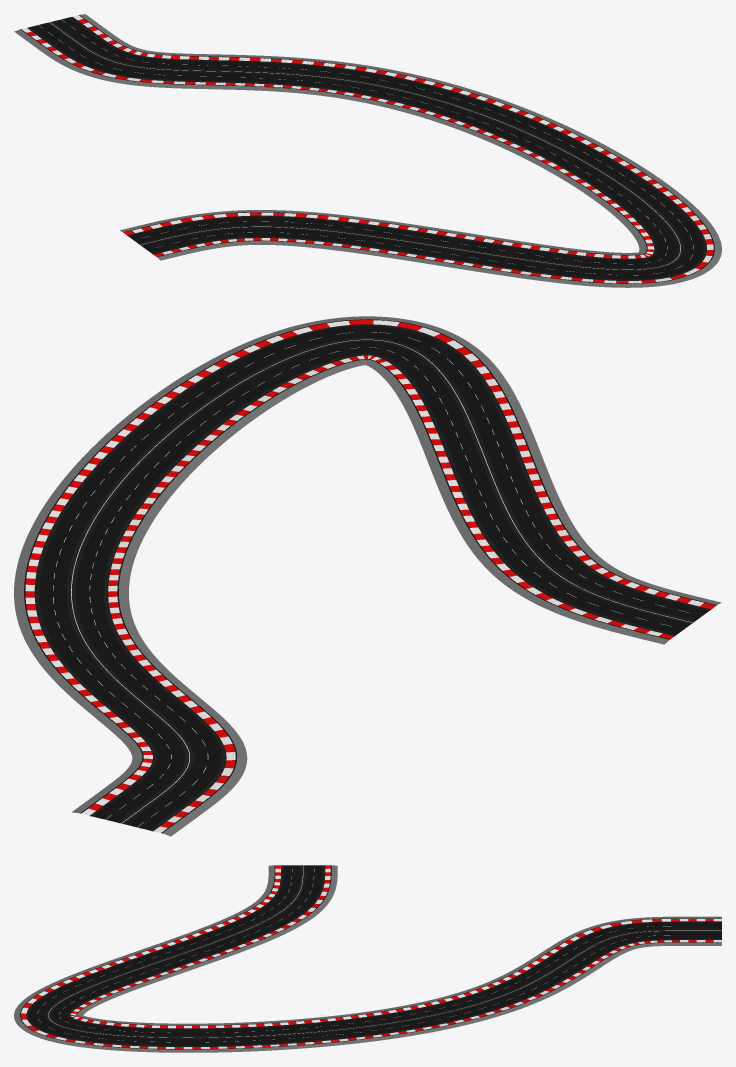
File: S0.1l3h0-ass3.glb
3 views of the same model, one above another, from view 1: azimuth 30°, elevation 25°; view 2: azimuth 150°, elevation 25°; view 3: azimuth 270°, elevation 25° (orthographic). The views are drawn at different scales.
Visible parts, largest first — view 1: Grid; view 2: Grid; view 3: Grid.
Part boxes in pixels (box(x1,y1,x2,y2)): Grid: box(14, 14, 721, 287); Grid: box(14, 316, 721, 836); Grid: box(14, 865, 721, 1052).
Size of the model in its own units: 160 by 0.31 by 256.
